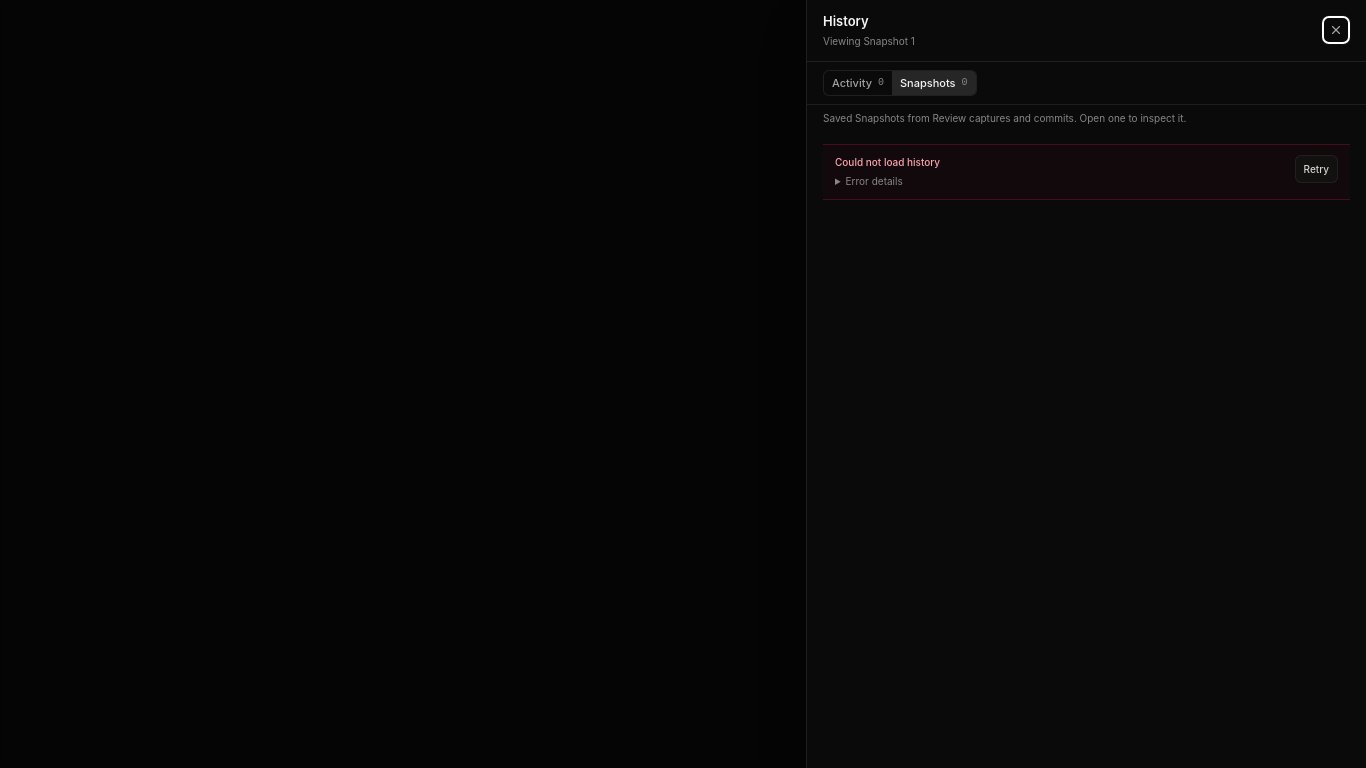
ReviewHistorySheet › keeps the failure and a usable Retry when activity fails and the retry fails too
The width and height of the screenshot is (1366, 768).
What coordinates should you click on to do the following:
click the button "Retry"
I would click on:
 (1316, 169)
Its box is [1295, 155, 1338, 183].
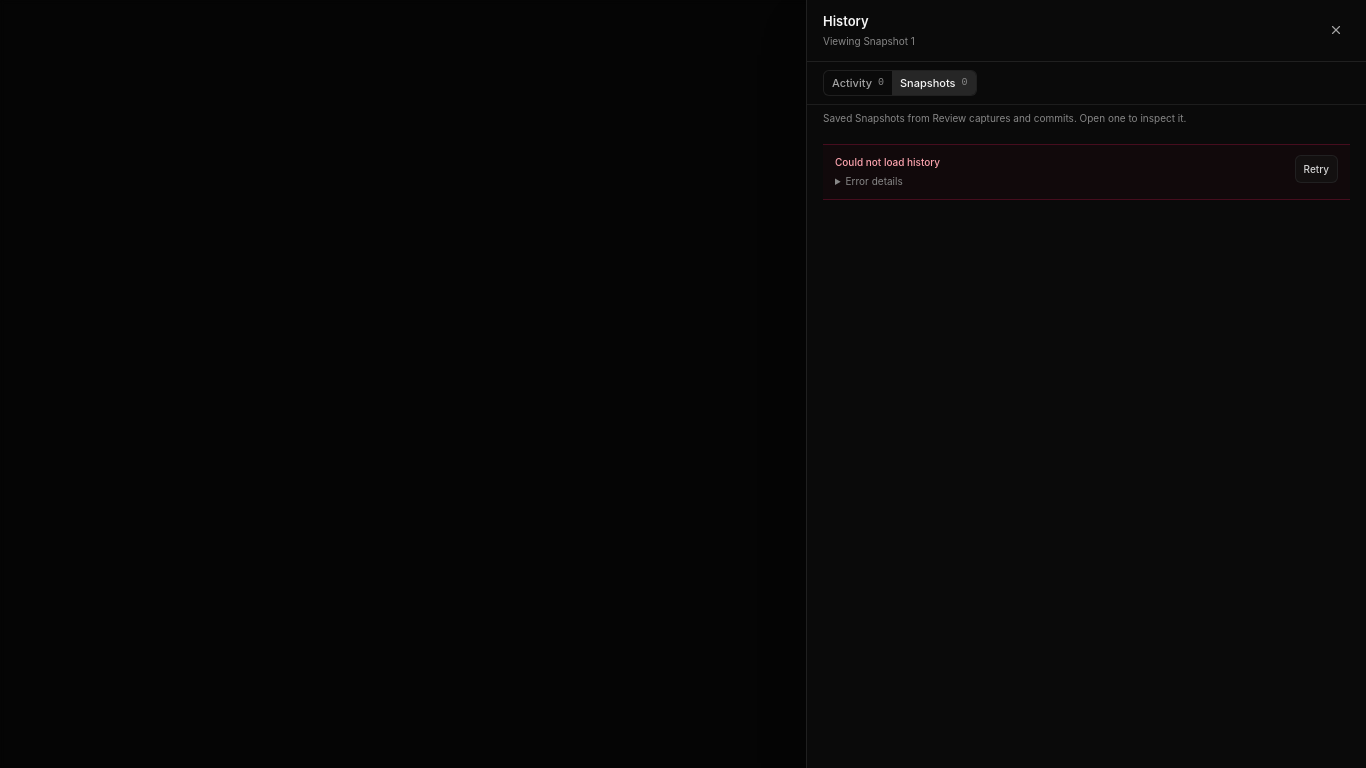
Expected: the text "Could not load history" is shown, [835, 156, 940, 168]
What coordinates should you click on to do the following:
click the button "Retry"
I would click on:
 (1316, 169)
Its box is [1295, 155, 1338, 183].
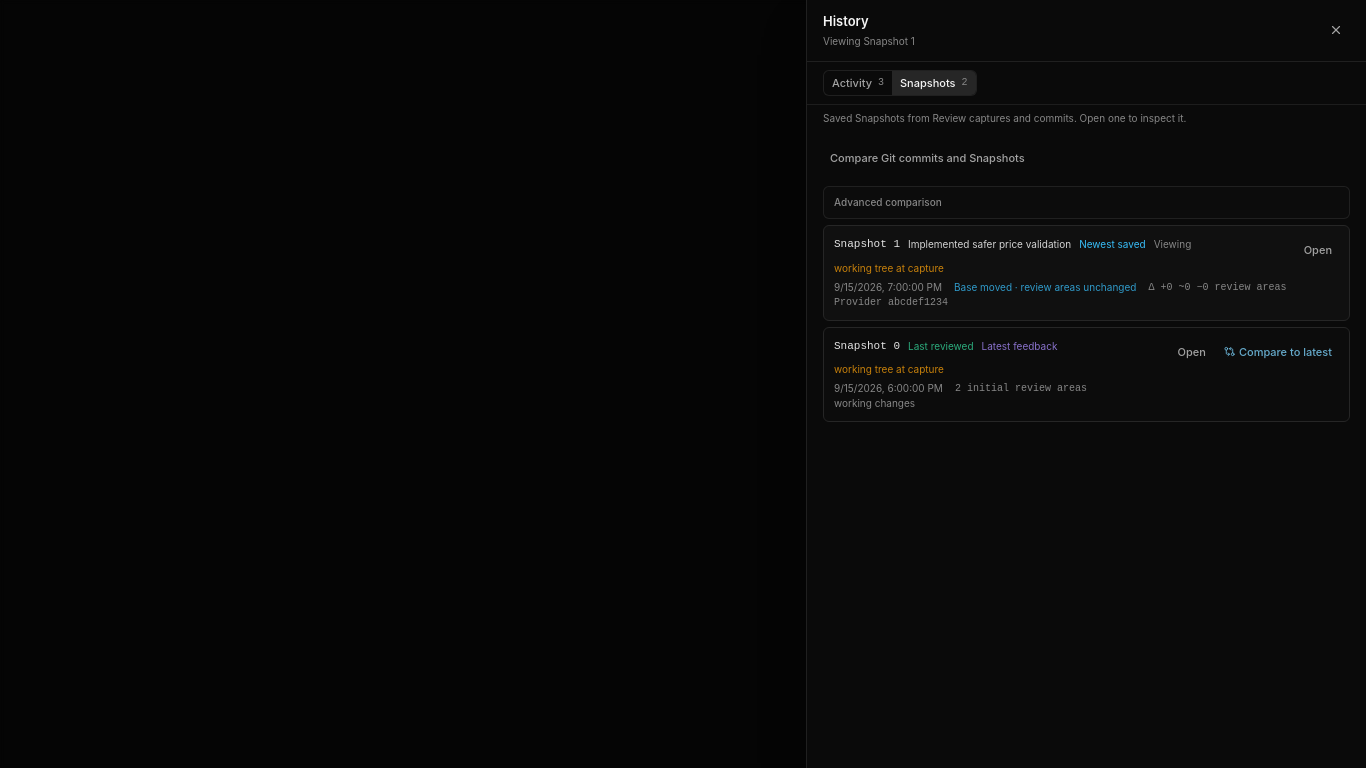
Now the text "Could not load history" is gone
